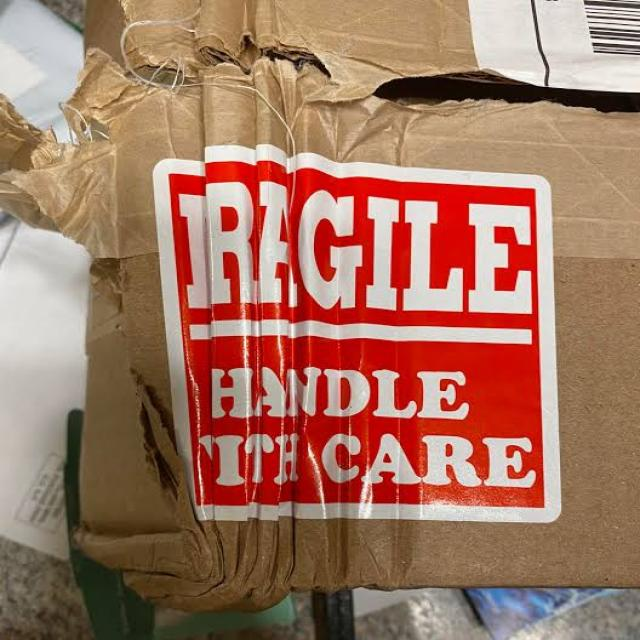carton_box: (0, 4, 640, 640)
package_damage: (0, 55, 318, 613), (27, 10, 640, 146)
